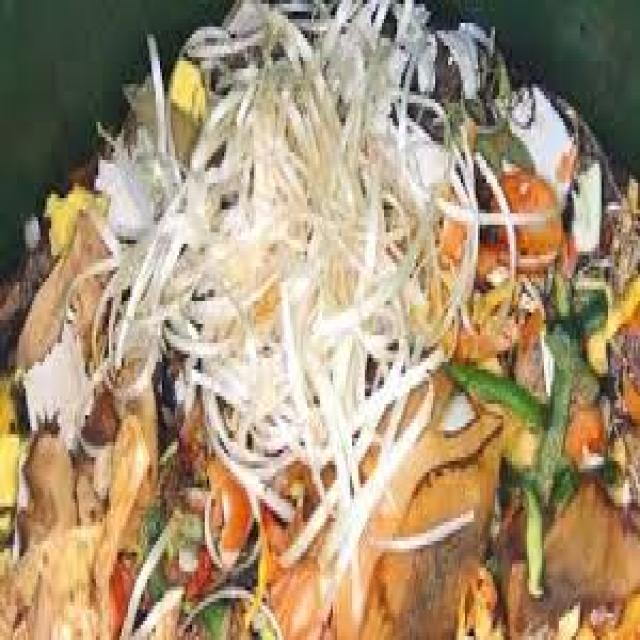food_waste: (0, 0, 638, 636)
